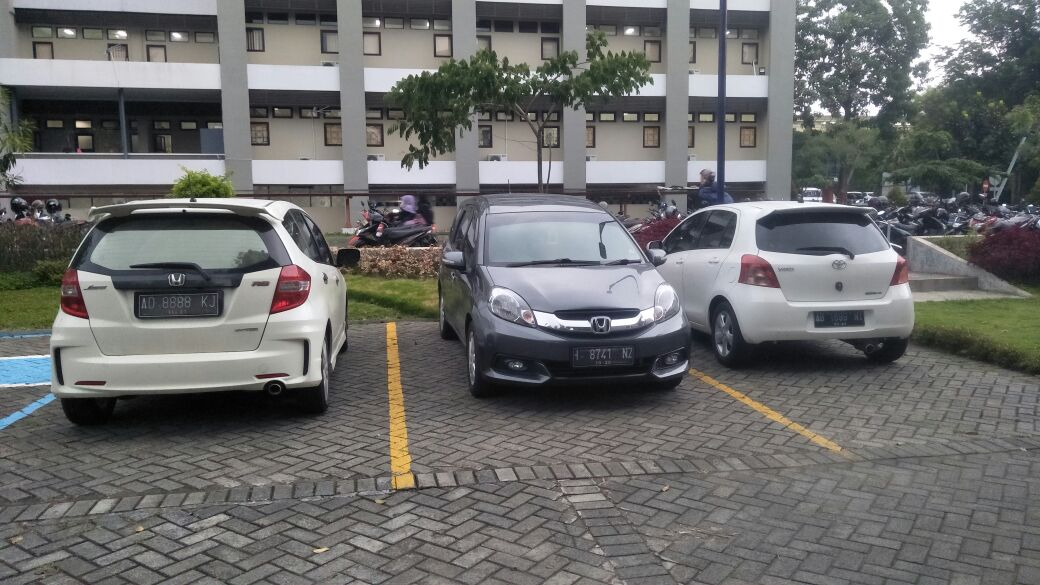plate: (137, 293, 219, 317), (573, 344, 634, 367), (814, 310, 865, 328)
